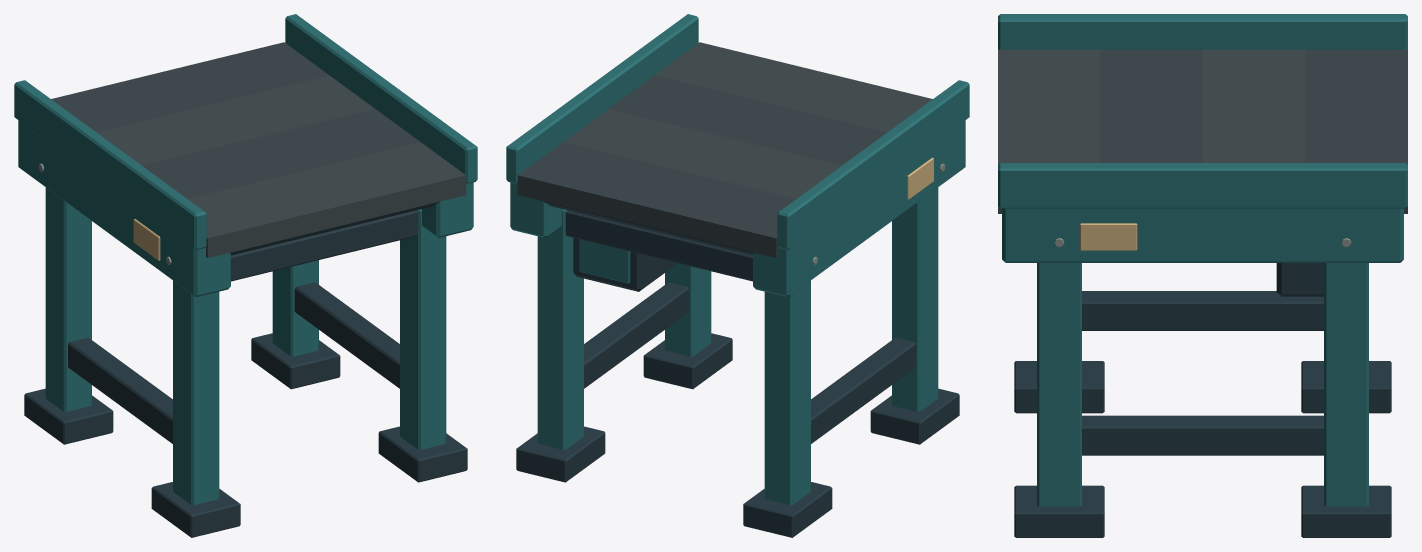
File: conveyor-straight.glb
The picture shows the model from 3 angles, left to right: view 1: azimuth 30°, elevation 25°; view 2: azimuth 150°, elevation 25°; view 3: azimuth 270°, elevation 25°; orthographic projection. The views are drawn at different scales.
Parts seen in each view (by area): view 1: conveyor-straight__batch_03, conveyor-straight__batch_02, conveyor-straight__batch_01, conveyor-straight__batch_00, conveyor-straight__batch_04; view 2: conveyor-straight__batch_03, conveyor-straight__batch_02, conveyor-straight__batch_00, conveyor-straight__batch_01, conveyor-straight__batch_04; view 3: conveyor-straight__batch_03, conveyor-straight__batch_02, conveyor-straight__batch_00, conveyor-straight__batch_01, conveyor-straight__batch_04.
Boxes of the visible parts, <box> form: conveyor-straight__batch_03: <box>14,14,477,505</box>; conveyor-straight__batch_02: <box>24,201,467,537</box>; conveyor-straight__batch_01: <box>97,75,466,257</box>; conveyor-straight__batch_00: <box>51,42,419,198</box>; conveyor-straight__batch_04: <box>133,219,160,260</box>; conveyor-straight__batch_03: <box>506,14,969,505</box>; conveyor-straight__batch_02: <box>516,201,959,537</box>; conveyor-straight__batch_00: <box>517,75,886,257</box>; conveyor-straight__batch_01: <box>564,42,932,198</box>; conveyor-straight__batch_04: <box>907,157,933,199</box>; conveyor-straight__batch_03: <box>998,14,1407,506</box>; conveyor-straight__batch_02: <box>1014,263,1391,537</box>; conveyor-straight__batch_00: <box>1100,49,1407,213</box>; conveyor-straight__batch_01: <box>998,49,1305,213</box>; conveyor-straight__batch_04: <box>1080,223,1137,250</box>.
Bounding box in the file's own units: 0.9 × 1 × 1.
